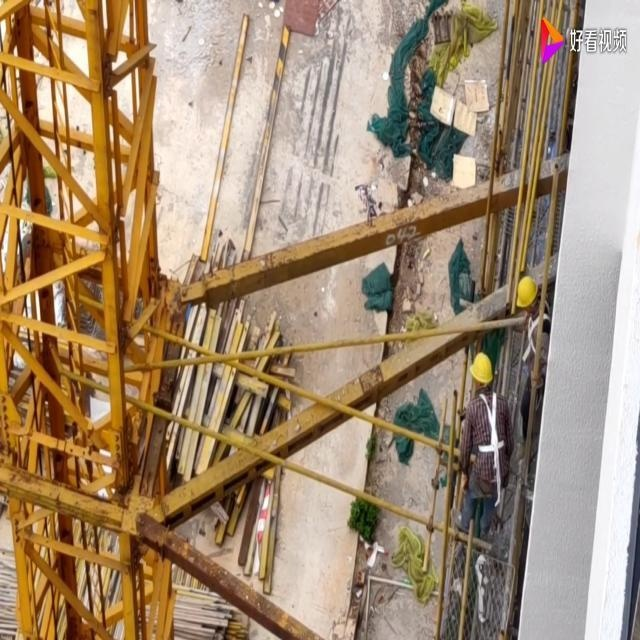Arnes_seguridad: (475, 385, 506, 459), (526, 294, 551, 356)
